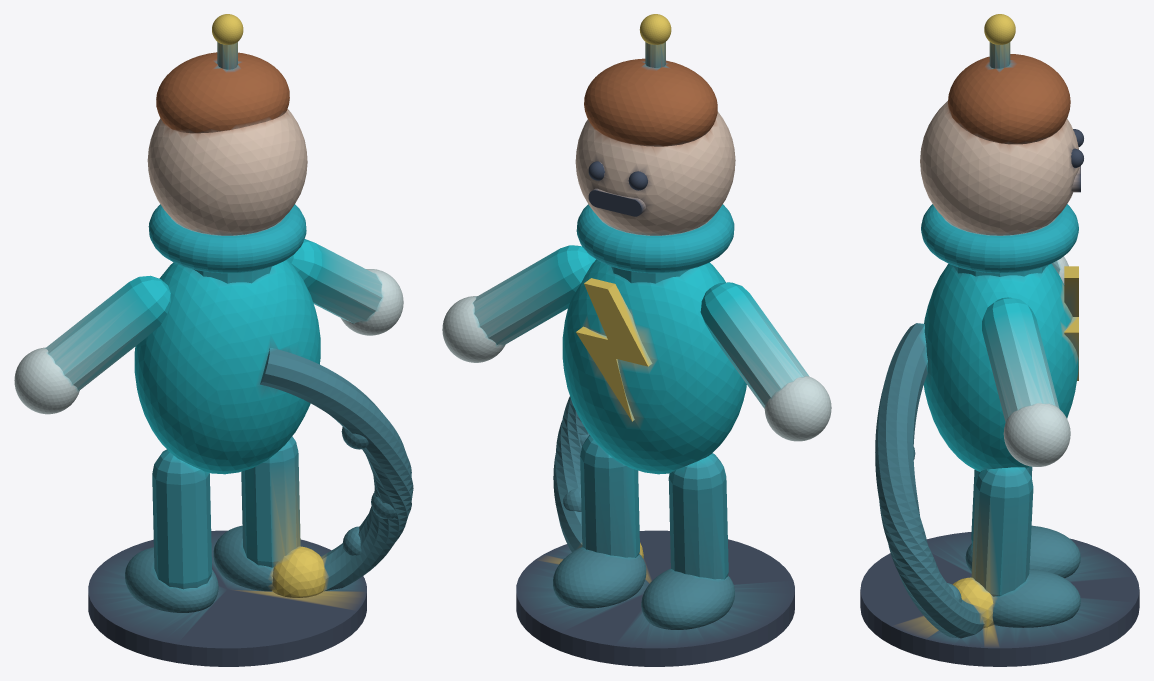
Rendered from neuronaut-axon-preview.glb.
The picture shows the model from 3 angles, left to right: view 1: azimuth 30°, elevation 25°; view 2: azimuth 150°, elevation 25°; view 3: azimuth 270°, elevation 25°; orthographic projection.
Parts seen in each view (by area): view 1: geometry_0; view 2: geometry_0; view 3: geometry_0.
Boxes of the visible parts, left/top/right/bottom form: geometry_0: left=14, top=14, right=413, bottom=666; geometry_0: left=442, top=14, right=831, bottom=666; geometry_0: left=860, top=14, right=1139, bottom=666.
Size of the model in its own units: 0.0472 by 0.0703 by 0.03.
